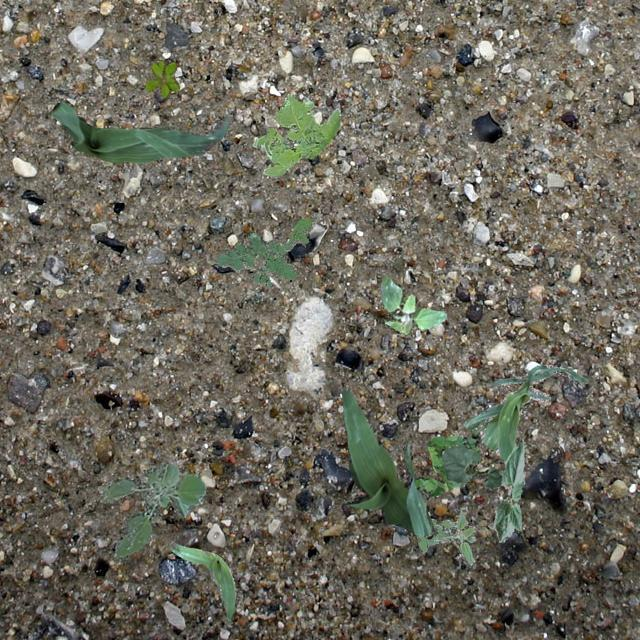crop: (340, 388, 432, 538), (462, 364, 586, 459), (51, 100, 230, 162), (168, 542, 234, 620), (492, 436, 524, 542), (441, 446, 502, 492)
weed: (98, 462, 204, 558), (252, 92, 340, 176), (215, 216, 318, 286), (414, 434, 478, 498), (378, 276, 446, 334), (416, 508, 474, 566), (142, 60, 178, 96)
